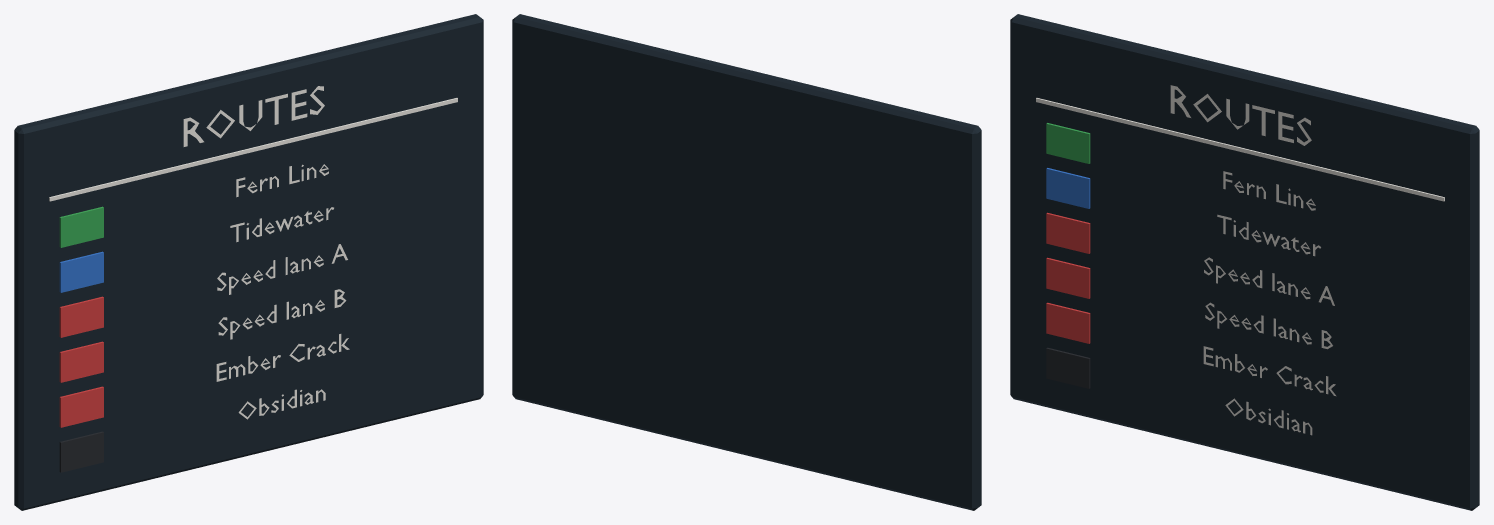
3 views of the same model, side by side, from view 1: azimuth 30°, elevation 25°; view 2: azimuth 150°, elevation 25°; view 3: azimuth 330°, elevation 25° (orthographic).
Parts seen in each view (by area): view 1: Decor_route_board; view 2: Decor_route_board; view 3: Decor_route_board.
Boxes of the visible parts, box(x1,y1,x2,y2) form: Decor_route_board: box(14, 14, 483, 510); Decor_route_board: box(512, 14, 981, 510); Decor_route_board: box(1010, 14, 1479, 510).
Bounding box in the file's own units: 1.3 × 1.02 × 0.046.
6 materials, 1 textured.
